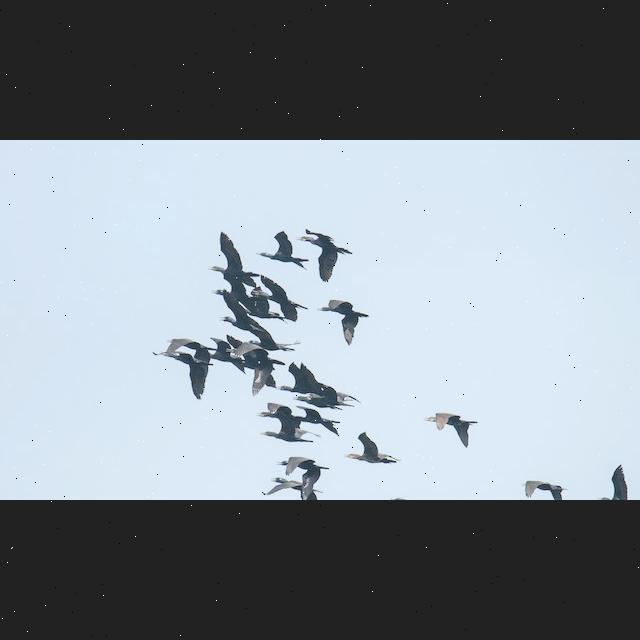cormorant: (558, 205, 590, 239)
